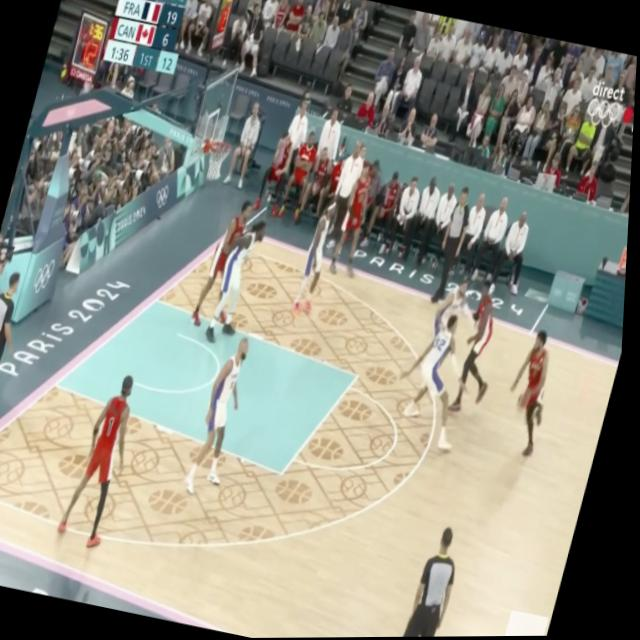ball_handler: (500, 328, 567, 459)
